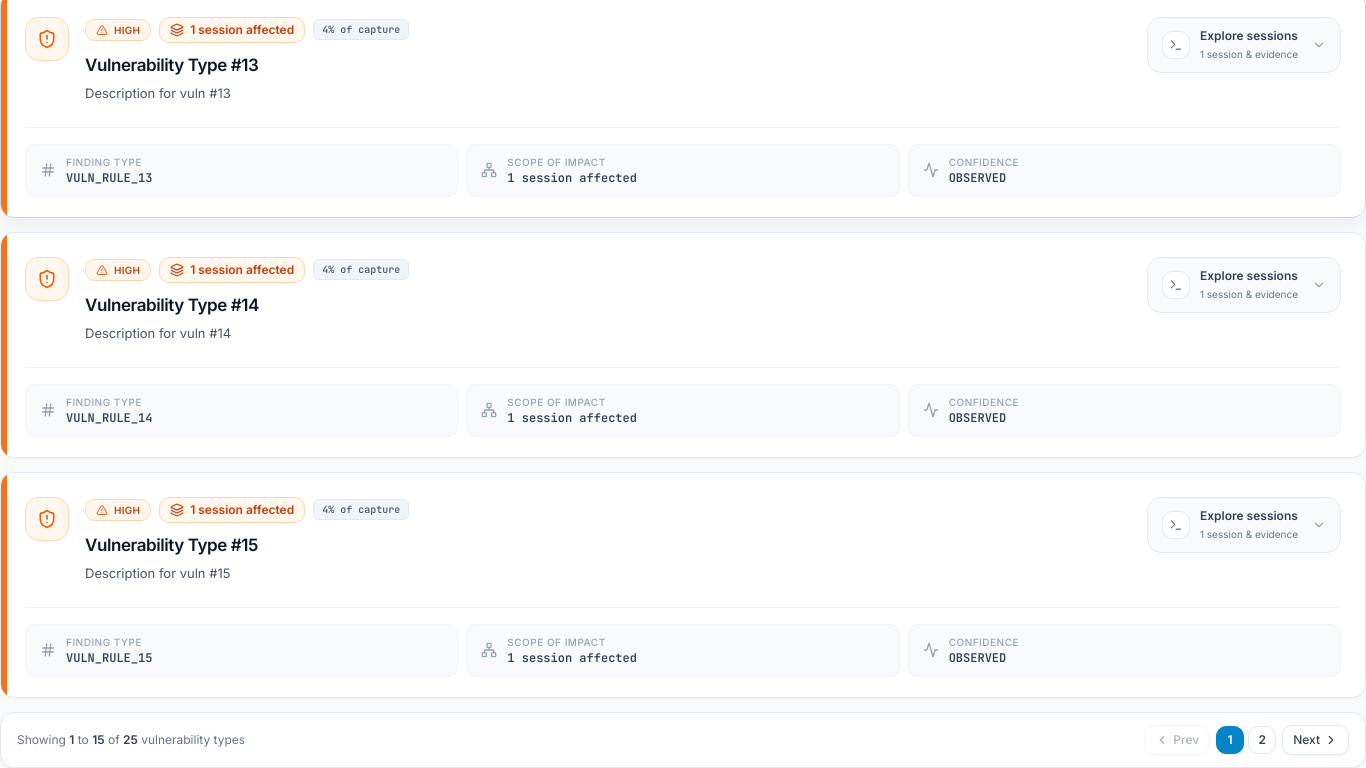
Test: Frontend Component Unit & Integration Tests › FindingsList & GroupedFindingCard › renders pagination when vulnerability types exceed page size
(page scrolled)
Expected: the text "Showing 1 to 15 of 25 vulnerability types" is shown, [17,732,245,748]
// Click next page
Click the button with aria-label "next page" at (1316, 740), box [1282,724,1349,754]
(page scrolled)
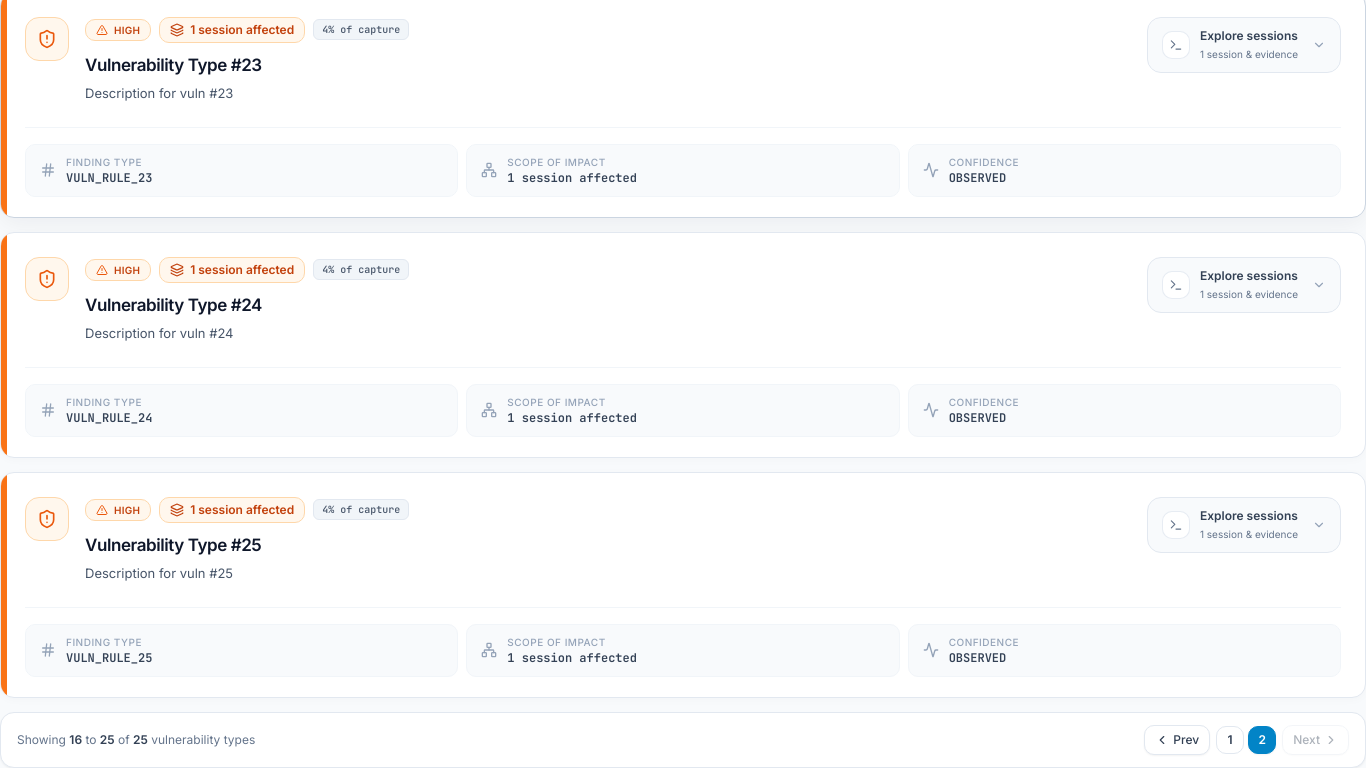
Expected: the text "Showing 16 to 25 of 25 vulnerability types" is shown, [17,732,255,748]
